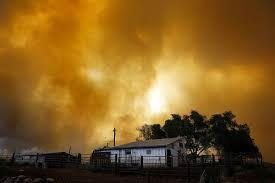fire: (146, 78, 167, 113)
